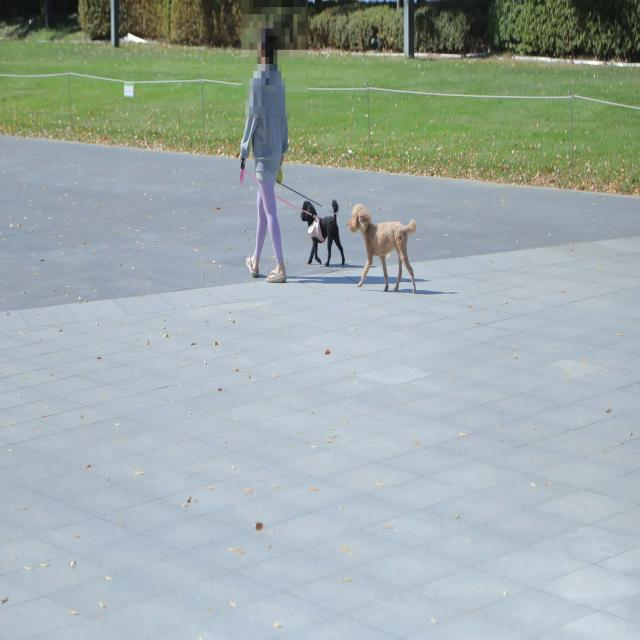Leashed_Dog: (269, 160, 419, 296), (266, 189, 346, 268)
